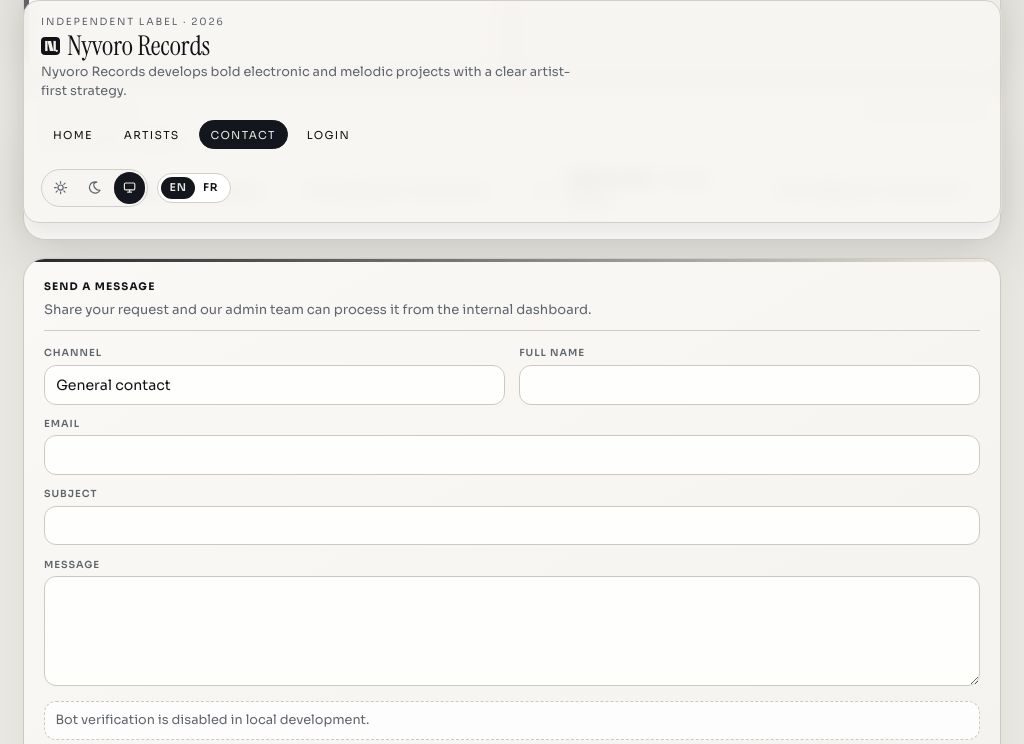
Test: contact page › shows a localized validation error when API rejects payload
(page scrolled)
Type "Alex Rivera" into the field labelled "Full name".
click(750, 385); type("Alex Rivera")  # box [519,365,980,405]
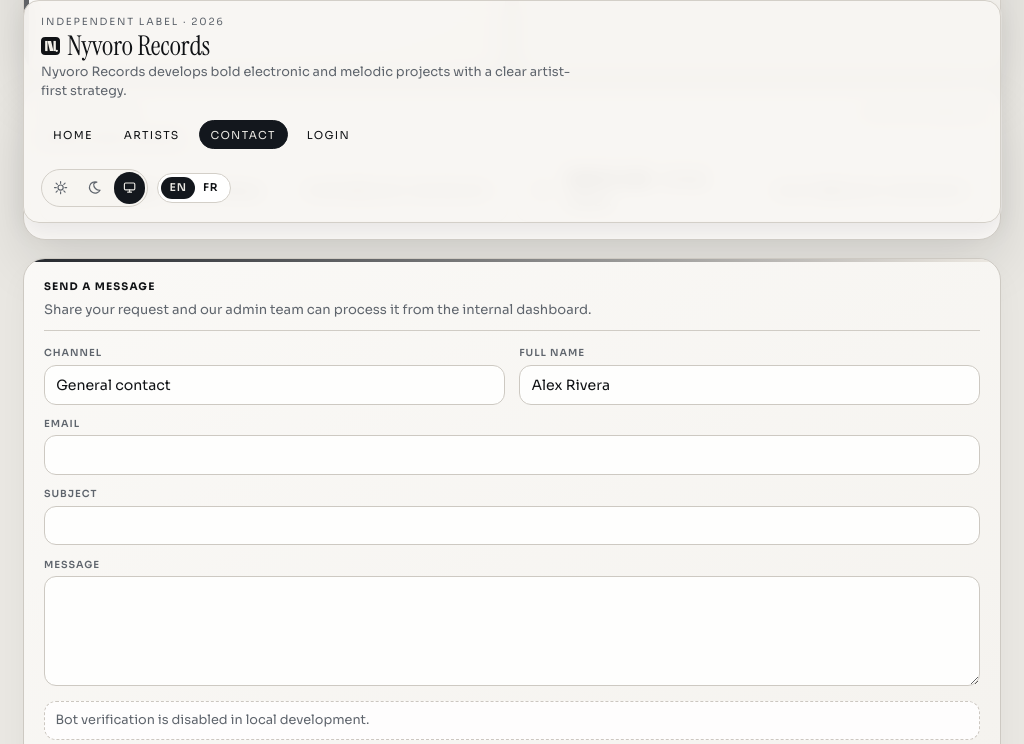
Type "alex.rivera@example.com" into the field labelled "Email".
click(512, 455); type("alex.rivera@example.com")  # box [44,435,980,475]
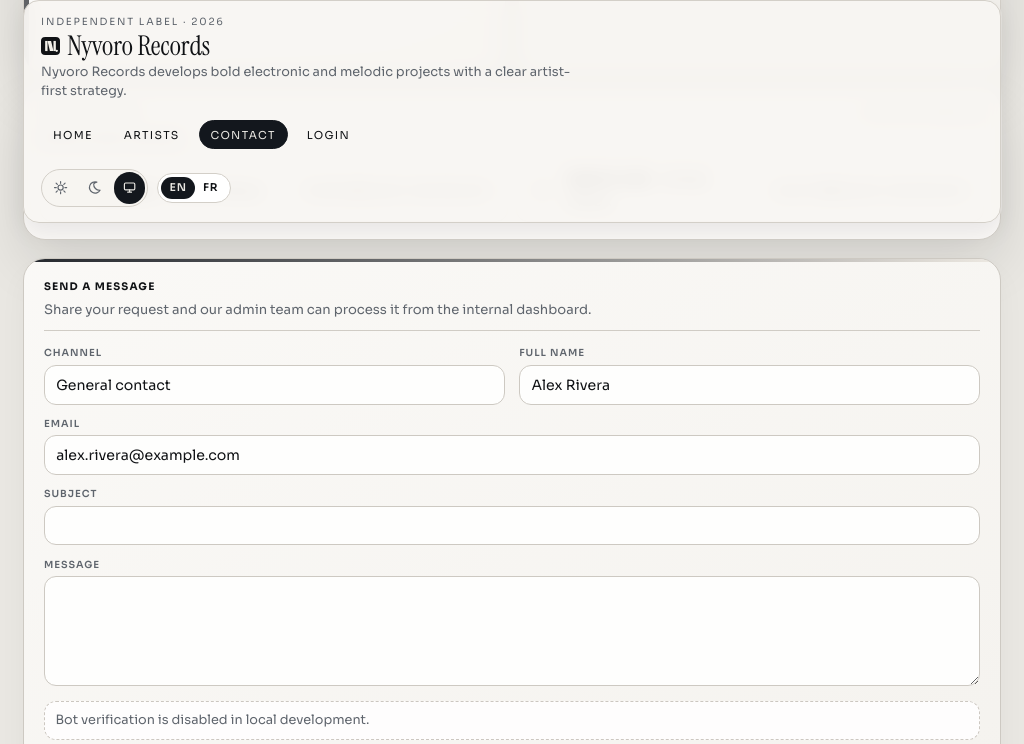
Type "Partnership request" into the field labelled "Subject".
click(512, 526); type("Partnership request")  # box [44,506,980,545]
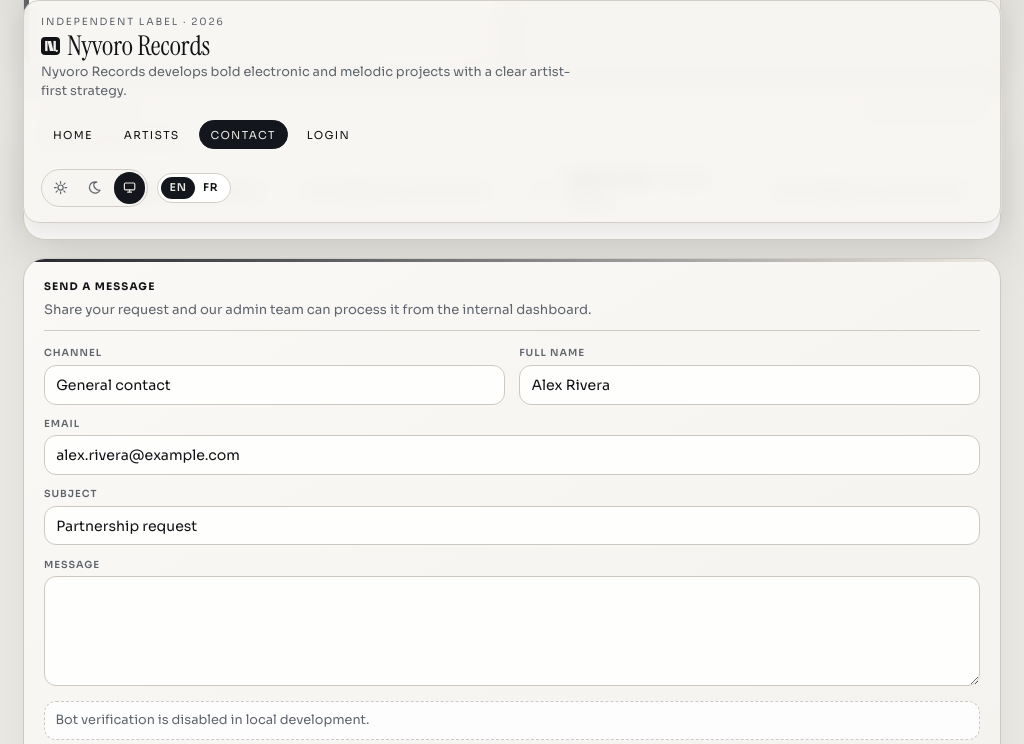
Type "Hello Nyvoro team, I would like to discuss a potential collaboration for an upcoming event." into the text box labelled "Message".
click(512, 631); type("Hello Nyvoro team, I would like to discuss a potential collaboration for an upcoming event.")  # box [44,576,980,686]
(page scrolled)
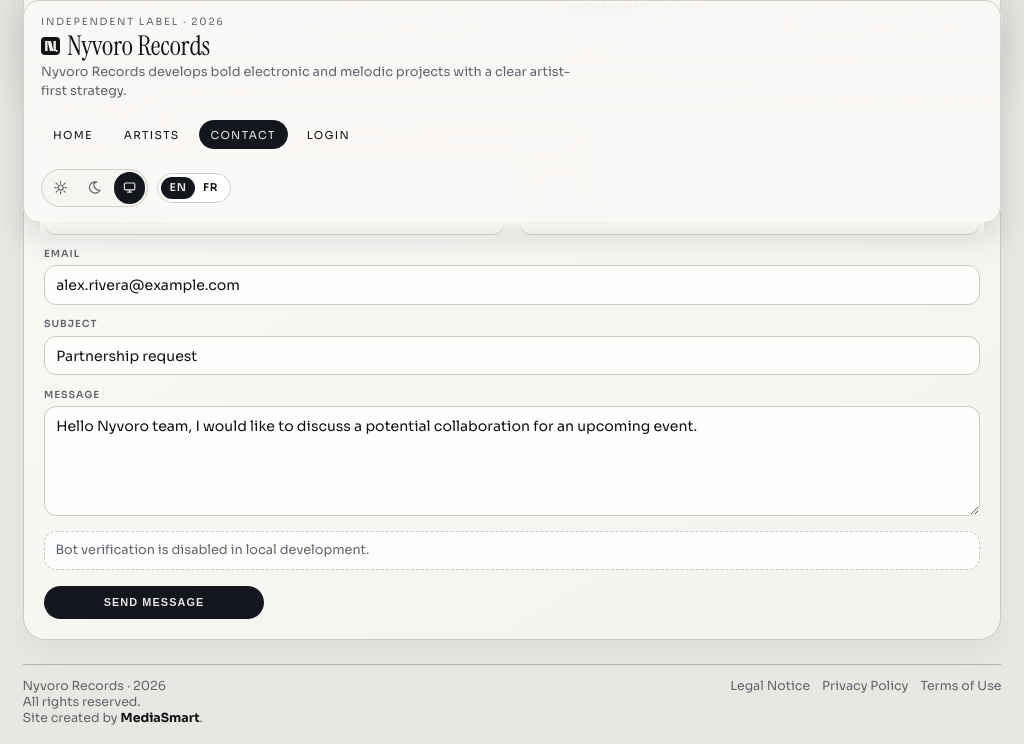
Check: the button "Send message" is enabled
Click the button "Send message".
click(154, 602)  # box [44,586,264,619]
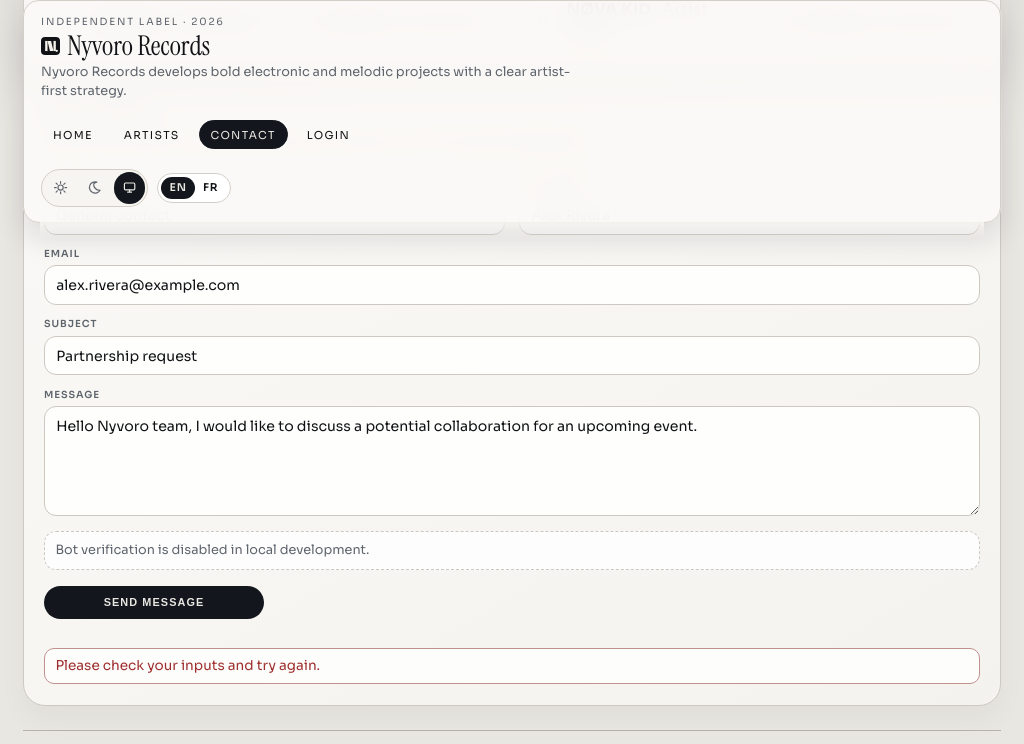
Check: the text "Please check your inputs and try again." is shown, box [44,648,980,684]
